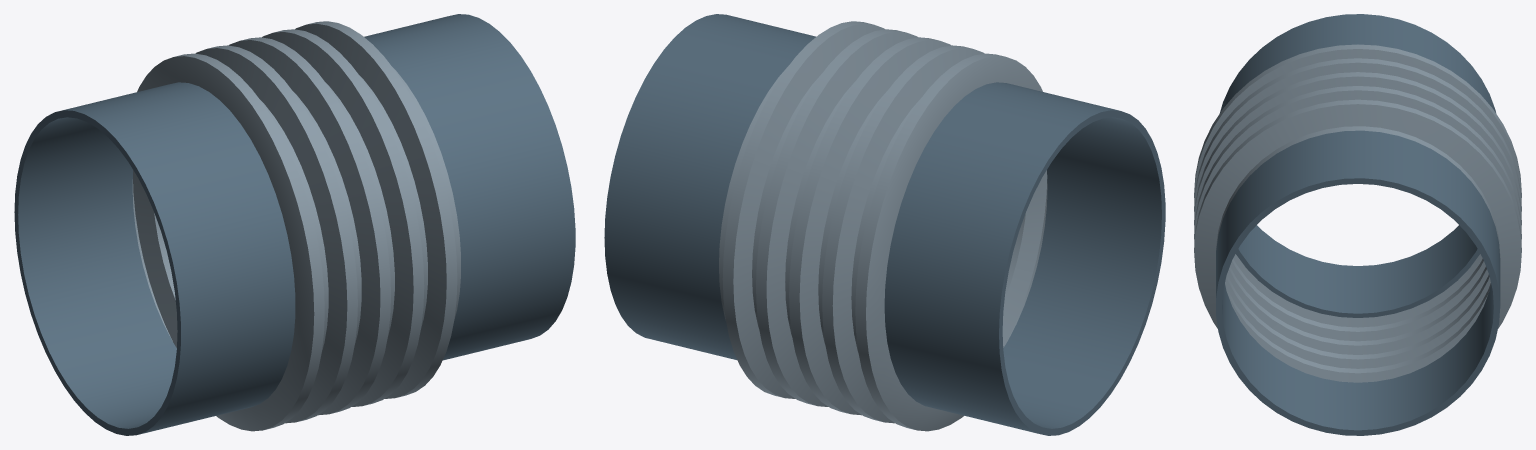
File: silf-dn350-L515-D377.glb
3 views of the same model, side by side, from view 1: azimuth 30°, elevation 25°; view 2: azimuth 150°, elevation 25°; view 3: azimuth 270°, elevation 25° (orthographic). The views are drawn at different scales.
Parts seen in each view (by area): view 1: patrubok_1, prokladka_silfon_1, patrubok_2; view 2: patrubok_1, prokladka_silfon_1, patrubok_2; view 3: prokladka_silfon_1, patrubok_2, patrubok_1.
Boxes of the visible parts, bbox=[...] form: patrubok_1: bbox=[14, 82, 295, 435]; prokladka_silfon_1: bbox=[132, 21, 460, 431]; patrubok_2: bbox=[364, 14, 575, 360]; patrubok_1: bbox=[884, 82, 1165, 435]; prokladka_silfon_1: bbox=[719, 21, 1047, 431]; patrubok_2: bbox=[604, 14, 815, 359]; prokladka_silfon_1: bbox=[1194, 44, 1521, 382]; patrubok_2: bbox=[1216, 130, 1500, 435]; patrubok_1: bbox=[1219, 14, 1496, 317].
Bounding box in the file's own units: 515 × 434 × 434.
